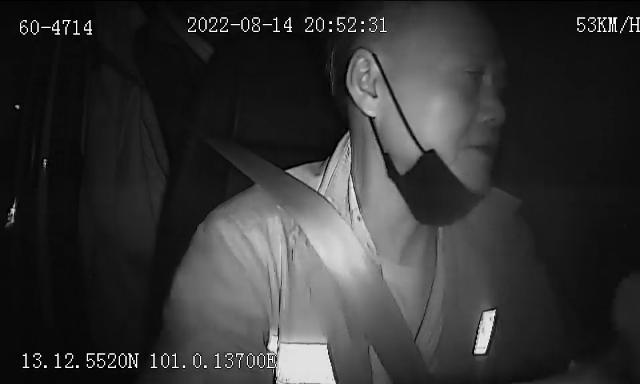Seatbelt: (208, 134, 437, 384)
